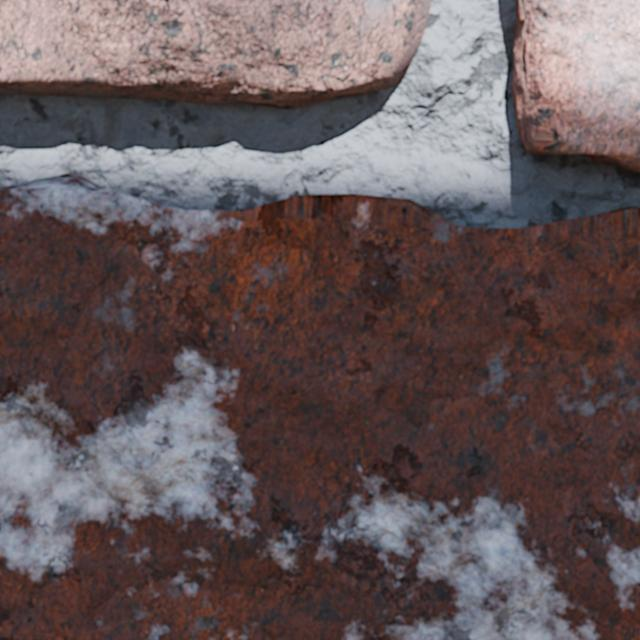crack: (0, 172, 639, 639), (0, 0, 431, 108), (511, 0, 639, 172)
